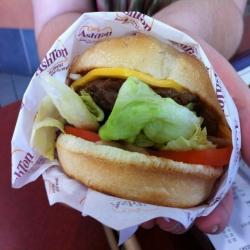burger: (49, 26, 236, 213)
